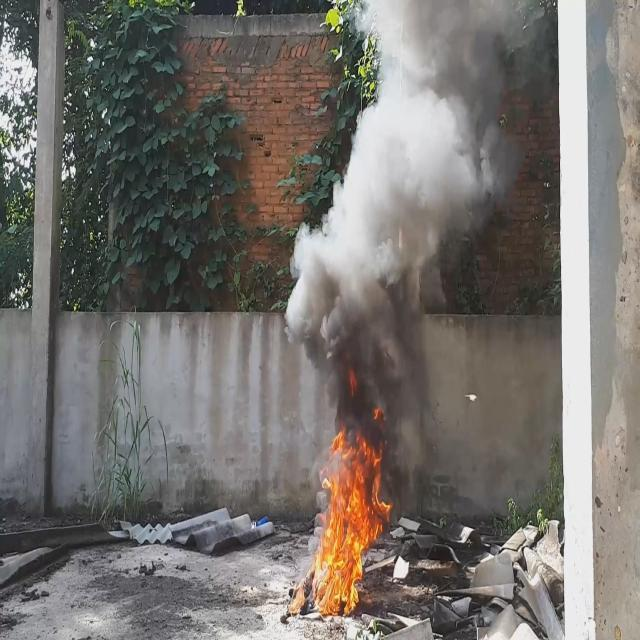Fire: (290, 428, 392, 618)
Smoke: (284, 0, 520, 426)
